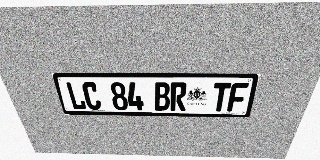4: (126, 82, 144, 110)
8: (109, 82, 128, 110)
B: (154, 82, 170, 111)
C: (81, 82, 102, 110)
F: (227, 83, 249, 112)
L: (65, 82, 87, 110)
R: (170, 82, 187, 111)
T: (211, 82, 231, 111)
